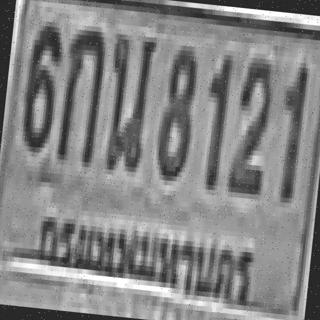A01: (54, 24, 105, 162)
A25: (100, 28, 155, 168)
N01: (199, 48, 231, 185), (274, 59, 306, 196)
N02: (226, 51, 274, 190)
N06: (19, 20, 62, 148)
N08: (154, 39, 198, 177)
P04: (28, 198, 266, 314)
